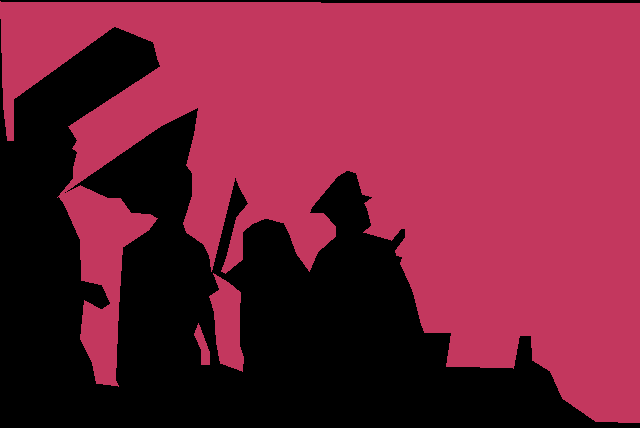Airplane: (0, 1, 640, 424), (58, 185, 244, 386)
